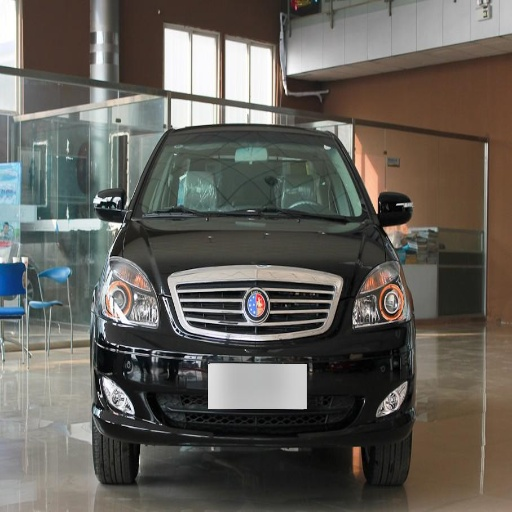front_bumper: (94, 275, 412, 450)
front_right_light: (97, 256, 161, 328)
hood: (121, 214, 388, 296)
left_mirror: (378, 191, 413, 226)
